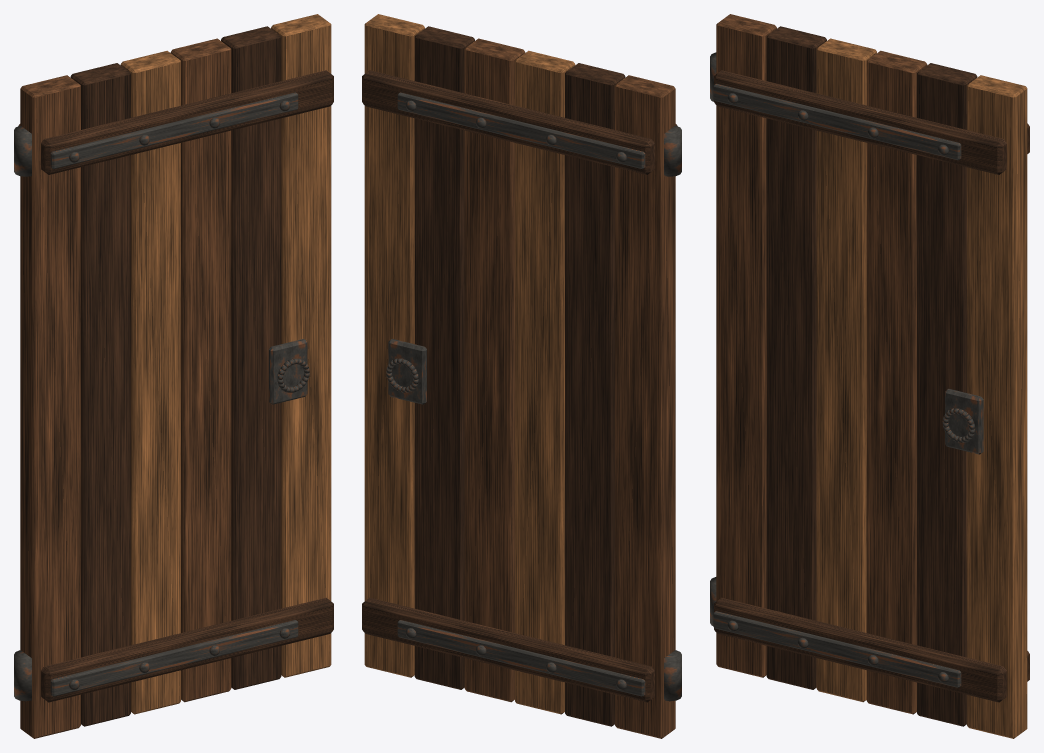
File: door_oak.glb
3 views of the same model, side by side, from view 1: azimuth 30°, elevation 25°; view 2: azimuth 150°, elevation 25°; view 3: azimuth 330°, elevation 25° (orthographic).
Parts seen in each view (by area): view 1: oak_dark, oak, oak_light, iron; view 2: oak_dark, oak, oak_light, iron; view 3: oak_dark, oak_light, oak, iron.
Boxes of the visible parts, x1,y1,x2,y2 form: oak_dark: [18, 26, 333, 726]; oak: [20, 38, 231, 738]; oak_light: [120, 14, 331, 714]; iron: [14, 92, 309, 701]; oak_dark: [362, 26, 677, 726]; oak: [464, 38, 675, 738]; oak_light: [364, 14, 575, 714]; iron: [386, 92, 681, 701]; oak_dark: [714, 26, 1029, 726]; oak_light: [816, 38, 1027, 738]; oak: [716, 14, 927, 714]; iron: [710, 52, 983, 687].
Bounding box in the file's own units: 1.08 × 2.15 × 0.251.
4 materials, 4 textured.
